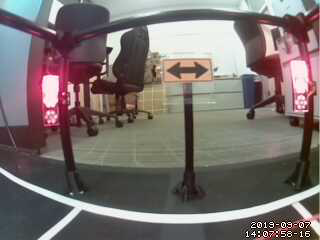Left_Right_sign: (161, 55, 212, 80)
Traffic_light_red: (290, 56, 311, 113), (42, 72, 61, 124)
